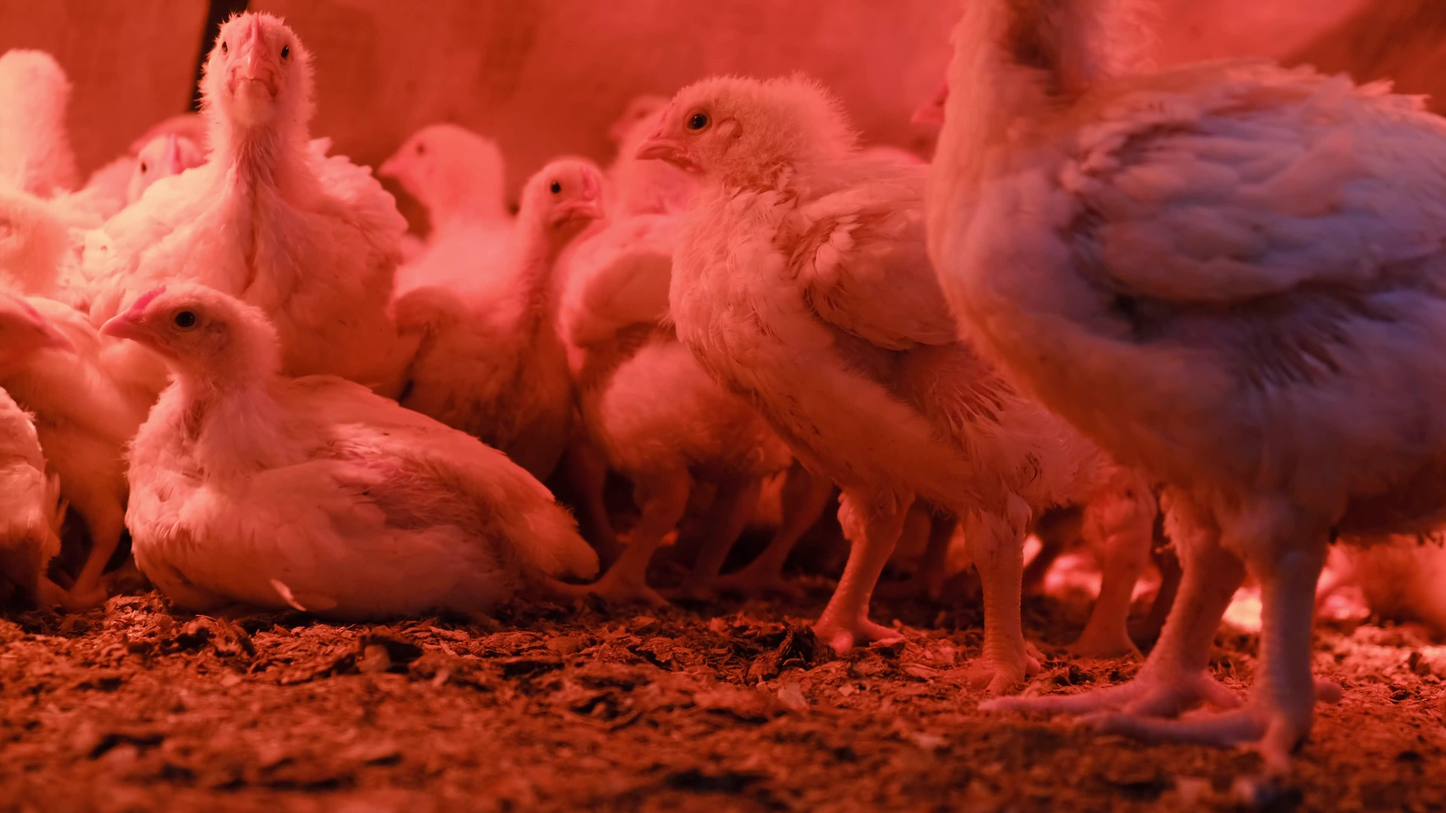AbNormal: (96, 271, 608, 627), (0, 262, 181, 576)
Normal: (892, 6, 1438, 779), (604, 51, 1051, 704), (179, 2, 394, 390), (390, 166, 678, 422), (354, 107, 540, 344), (0, 34, 141, 309), (104, 113, 226, 282)
